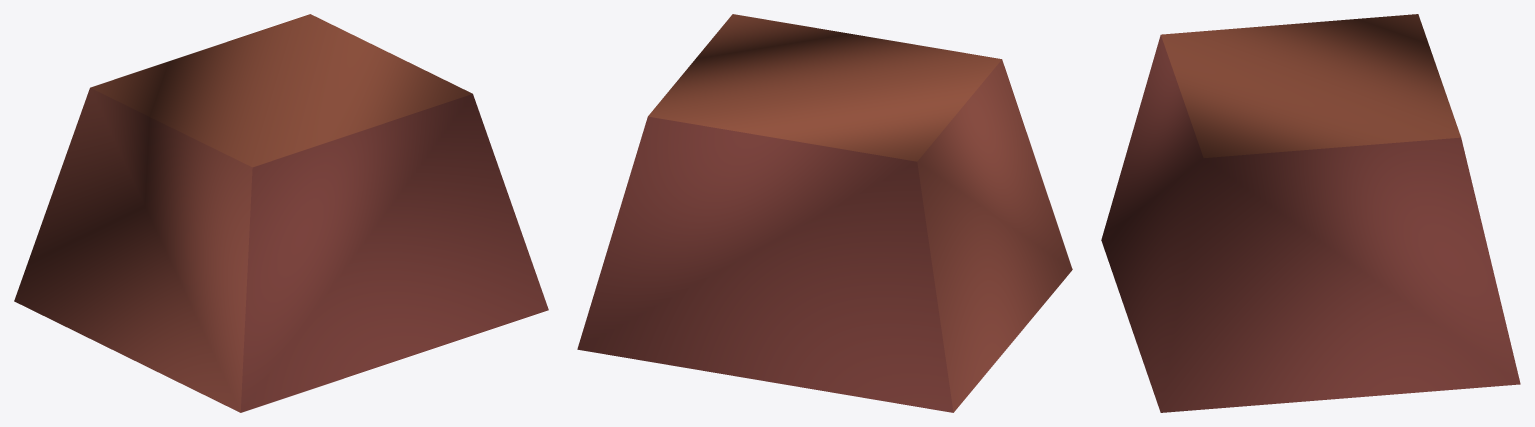
File: apoc_prop_47.glb
3 views of the same model, side by side, from view 1: azimuth 30°, elevation 25°; view 2: azimuth 150°, elevation 25°; view 3: azimuth 270°, elevation 25° (orthographic). The views are drawn at different scales.
Parts seen in each view (by area): view 1: prop_049; view 2: prop_049; view 3: prop_049.
Boxes of the visible parts, bbox=[...] form: prop_049: bbox=[14, 14, 548, 412]; prop_049: bbox=[577, 14, 1072, 412]; prop_049: bbox=[1101, 14, 1520, 412].
Size of the model in its own units: 0.0649 by 0.034 by 0.0571.
Materials: 1 (1 with a texture image).
